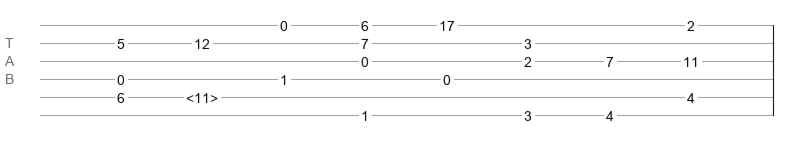0: (117, 72, 125, 82), (280, 18, 288, 28), (361, 54, 369, 64), (443, 72, 451, 82)
1: (280, 72, 288, 82), (361, 108, 369, 118)
11: (683, 54, 699, 64)
12: (194, 36, 210, 46)
17: (439, 18, 455, 28)
2: (524, 54, 532, 64), (687, 18, 695, 28)
3: (524, 36, 532, 46), (524, 108, 532, 118)
4: (606, 108, 614, 118), (687, 90, 695, 100)
5: (117, 36, 125, 46)
6: (117, 90, 125, 100), (361, 18, 369, 28)
7: (361, 36, 369, 46), (606, 54, 614, 64)
harmonic: (186, 90, 218, 100)
